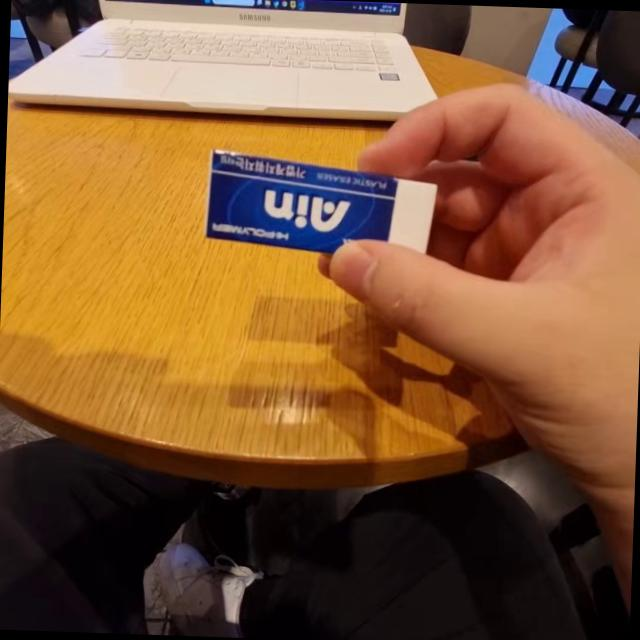eraser: (160, 156, 476, 266)
grab_eraser: (204, 66, 640, 466)
hand: (374, 58, 640, 405)
